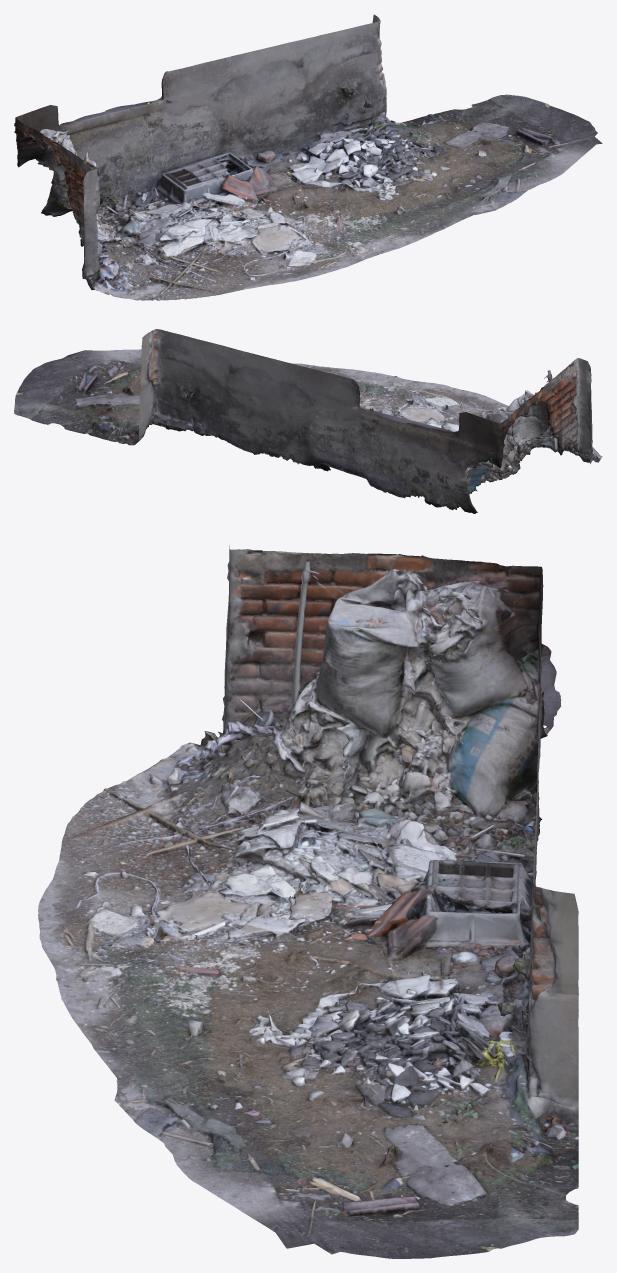
The model's file is Rubble1.fbx.
3 views of the same model, one above another, from view 1: azimuth 30°, elevation 25°; view 2: azimuth 150°, elevation 25°; view 3: azimuth 270°, elevation 25° (orthographic). The views are drawn at different scales.
Visible parts, largest first — view 1: Garbage_pile_in_the_corner; view 2: Garbage_pile_in_the_corner; view 3: Garbage_pile_in_the_corner.
Boxes of the visible parts, bbox=[...] form: Garbage_pile_in_the_corner: bbox=[14, 14, 602, 300]; Garbage_pile_in_the_corner: bbox=[14, 329, 602, 513]; Garbage_pile_in_the_corner: bbox=[38, 545, 578, 1258].
Bounding box in the file's own units: 212 × 43.98 × 95.5.
1 material, 1 textured.
